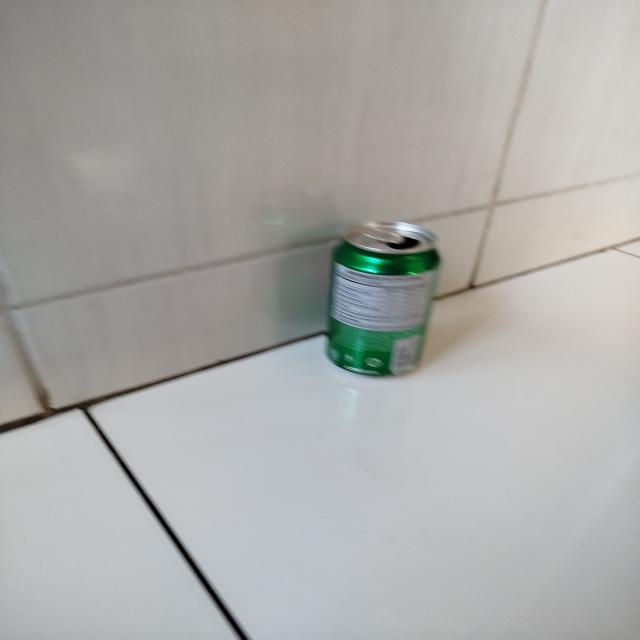Guarana: (324, 220, 445, 378)
